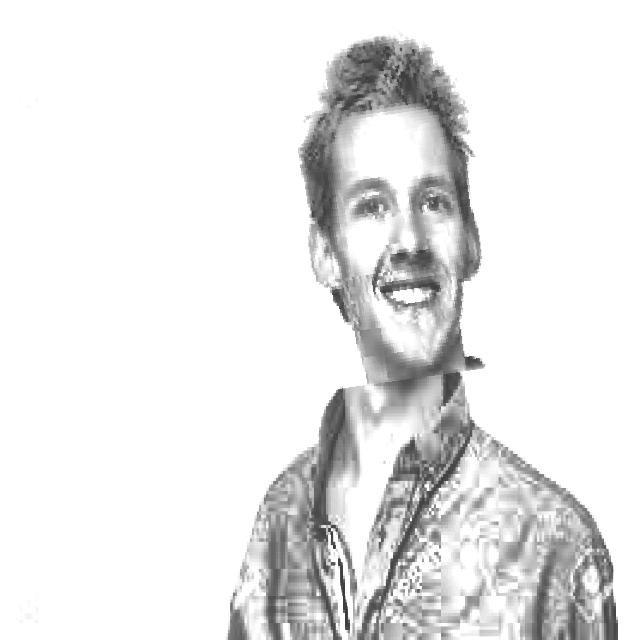happy: (264, 29, 517, 387)
